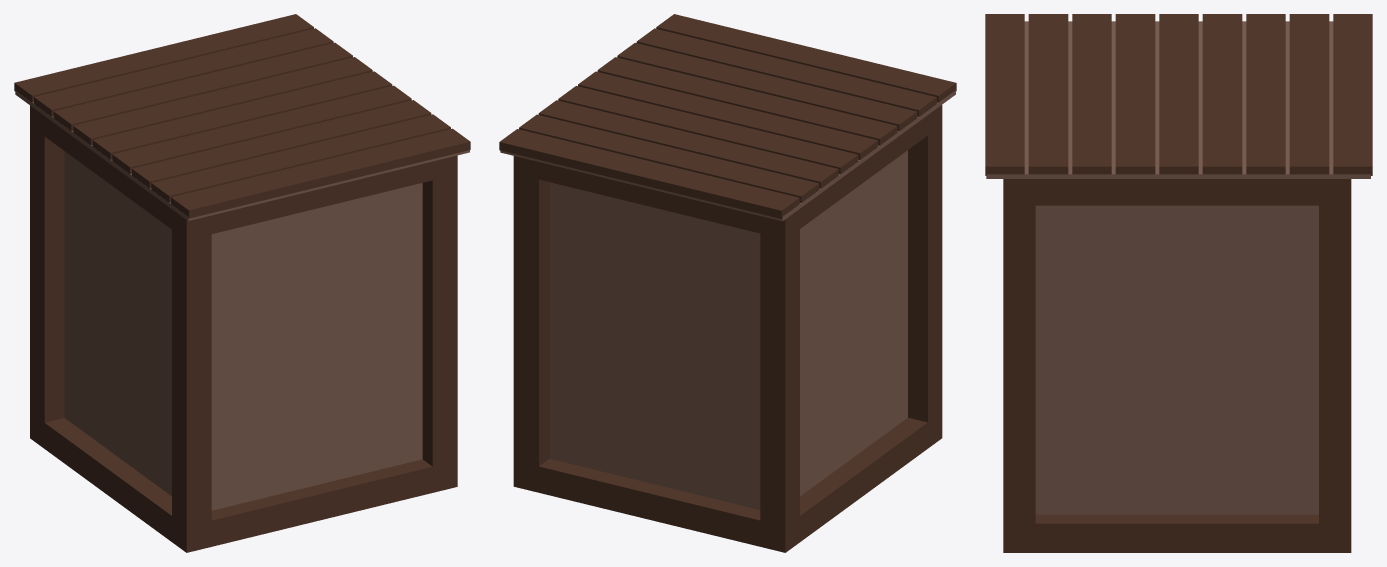
The picture shows the model from 3 angles, left to right: view 1: azimuth 30°, elevation 25°; view 2: azimuth 150°, elevation 25°; view 3: azimuth 270°, elevation 25°; orthographic projection. The views are drawn at different scales.
Parts seen in each view (by area): view 1: Cube; view 2: Cube; view 3: Cube.
Boxes of the visible parts, box(x1,y1,x2,y2) form: Cube: box(14, 14, 470, 552); Cube: box(499, 14, 956, 552); Cube: box(985, 14, 1372, 552).
Size of the model in its own units: 208 by 247 by 223.
